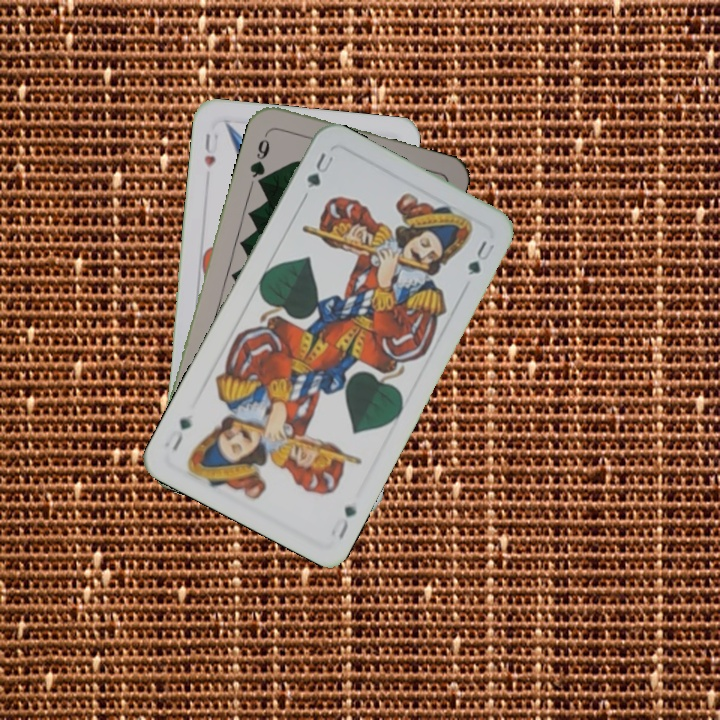G9: (246, 127, 273, 186)
GU: (302, 148, 336, 192), (326, 501, 359, 543)
HU: (200, 129, 221, 170)
